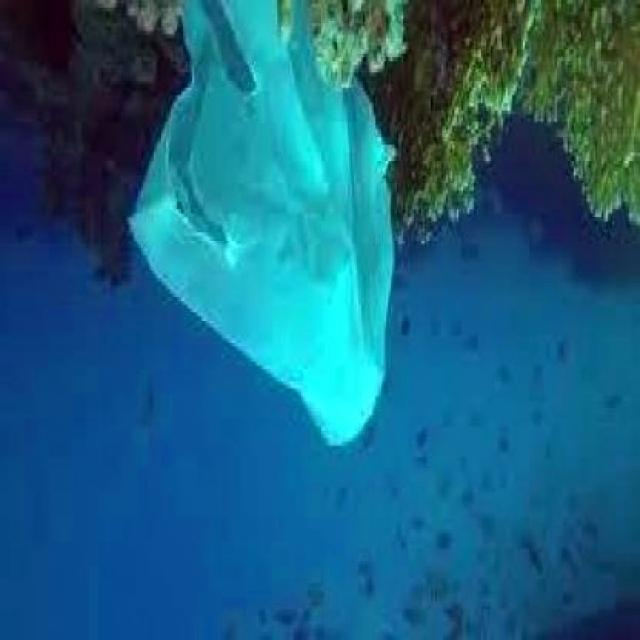pbag: (121, 4, 399, 453)
